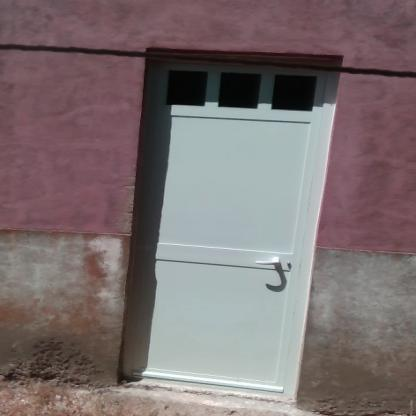door: (148, 55, 304, 394)
lever: (250, 255, 284, 269)
